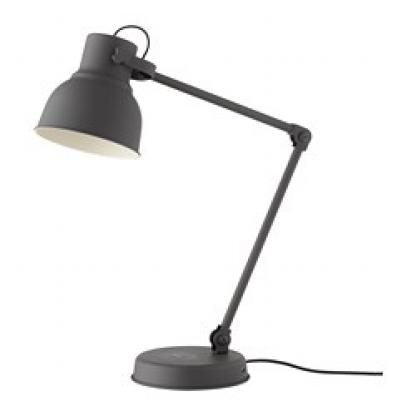Lamp: (23, 18, 330, 398)
